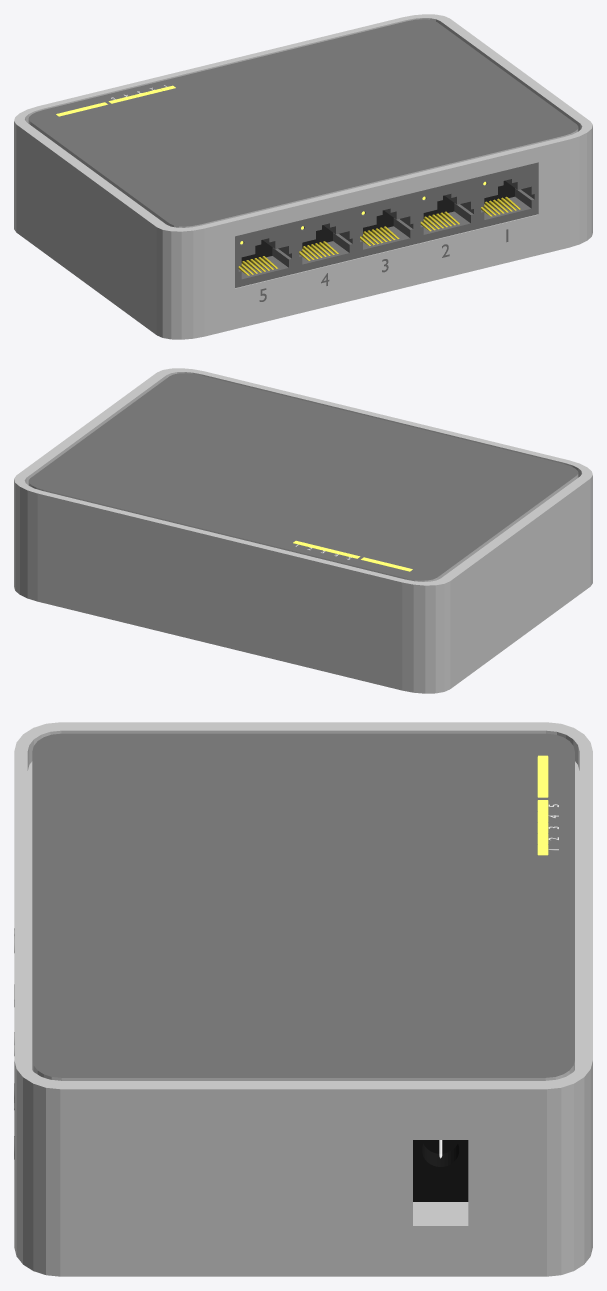
Rendered from tl-sf1005d (3).zip.glb.
The picture shows the model from 3 angles, top to bottom: view 1: azimuth 30°, elevation 25°; view 2: azimuth 150°, elevation 25°; view 3: azimuth 270°, elevation 25°; orthographic projection. The views are drawn at different scales.
Visible parts, largest first — view 1: Plane005_0, Plane009_2, Plane011_10; view 2: Plane005_0; view 3: Plane005_0.
Boxes of the visible parts, bbox=[...] form: Plane005_0: bbox=[14, 14, 592, 339]; Plane009_2: bbox=[204, 139, 569, 336]; Plane011_10: bbox=[238, 196, 522, 276]; Plane005_0: bbox=[14, 368, 592, 693]; Plane005_0: bbox=[14, 722, 592, 1276].
Bounding box in the file's own units: 1 × 0.2402 × 0.6698.
